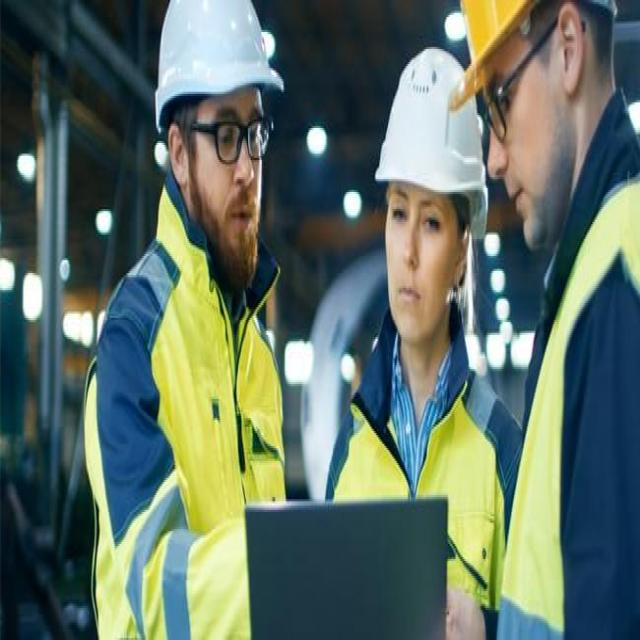Reflective-Jacket: (82, 230, 288, 638), (497, 173, 640, 640), (333, 346, 506, 634)
Safety-Helmet: (370, 38, 490, 228), (449, 0, 630, 119), (148, 0, 284, 139)
